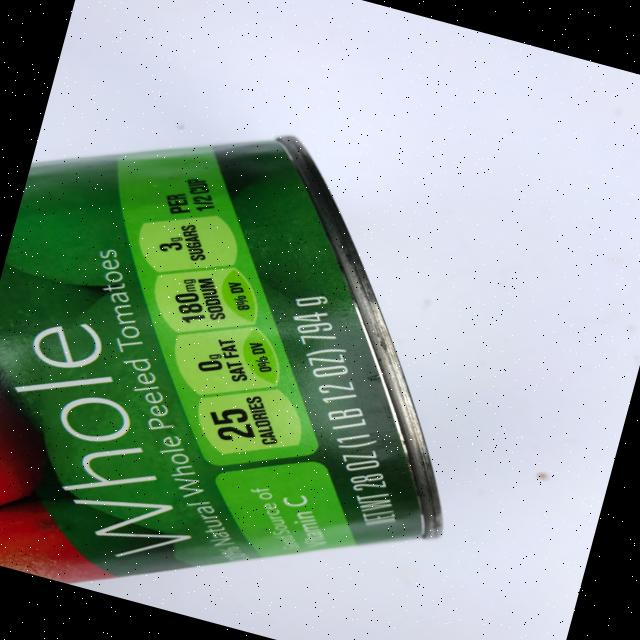metal: (0, 71, 532, 640)
